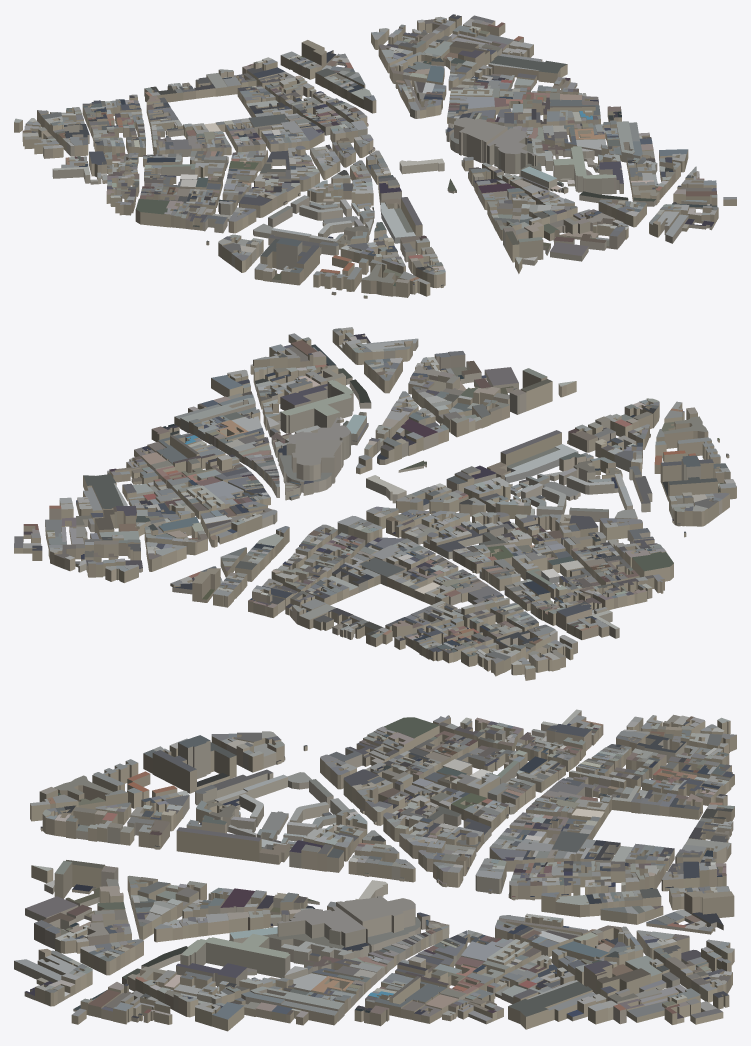
The picture shows the model from 3 angles, top to bottom: view 1: azimuth 30°, elevation 25°; view 2: azimuth 150°, elevation 25°; view 3: azimuth 270°, elevation 25°; orthographic projection. The views are drawn at different scales.
Parts seen in each view (by area): view 1: tuile; view 2: tuile; view 3: tuile.
Part boxes in pixels (left/top/right/bottom): tuile: left=14, top=14, right=736, bottom=298; tuile: left=14, top=327, right=736, bottom=680; tuile: left=14, top=709, right=736, bottom=1031.
Bounding box in the file's own units: 1064 × 66.91 × 1049.
